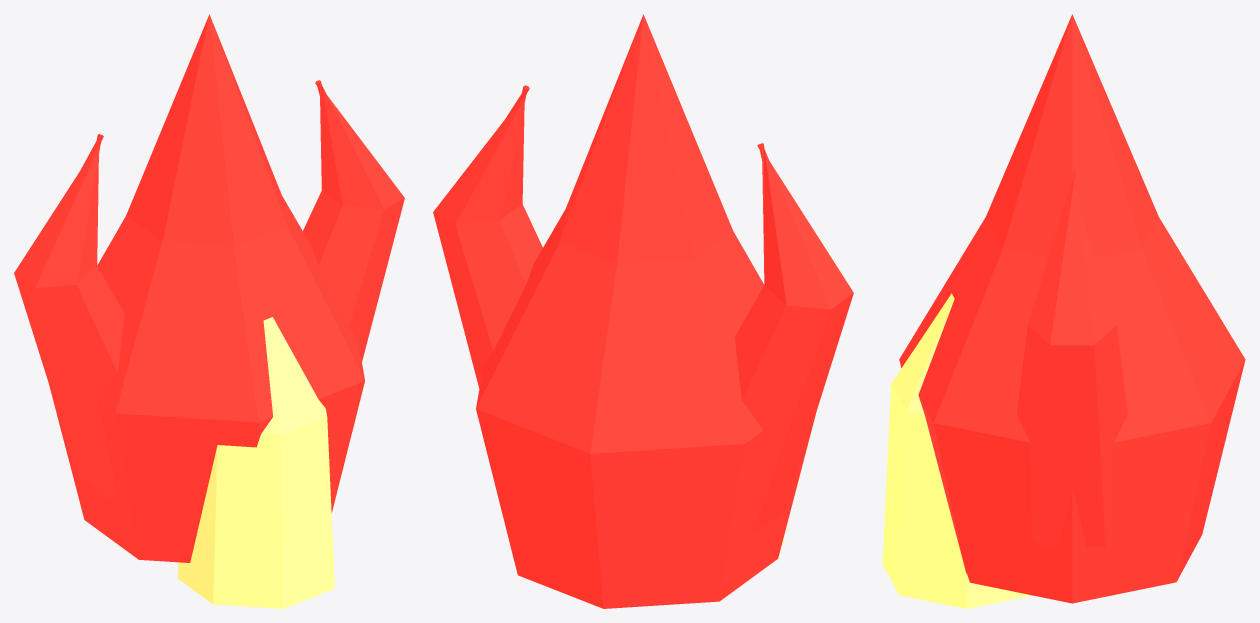
The model's file is evil_hand_flame.glb.
3 renders of one model, left to right at view 1: azimuth 30°, elevation 25°; view 2: azimuth 150°, elevation 25°; view 3: azimuth 270°, elevation 25°, orthographic. The views are drawn at different scales.
Parts seen in each view (by area): view 1: Red magical flame.001, Bright flame heart.001, Curling flame tongue.002, Curling flame tongue.003; view 2: Red magical flame.001, Curling flame tongue.002, Curling flame tongue.003; view 3: Red magical flame.001, Curling flame tongue.003, Bright flame heart.001.
Part boxes in pixels (<box>): Red magical flame.001: <box>49,14,364,562</box>; Bright flame heart.001: <box>178,317,334,608</box>; Curling flame tongue.002: <box>14,134,124,498</box>; Curling flame tongue.003: <box>303,80,404,361</box>; Red magical flame.001: <box>476,14,815,608</box>; Curling flame tongue.002: <box>735,143,853,535</box>; Curling flame tongue.003: <box>433,85,542,388</box>; Red magical flame.001: <box>899,14,1245,603</box>; Curling flame tongue.003: <box>1017,170,1127,546</box>; Bright flame heart.001: <box>882,293,1032,608</box>.
Bounding box in the file's own units: 0.2657 × 0.3607 × 0.2126.
